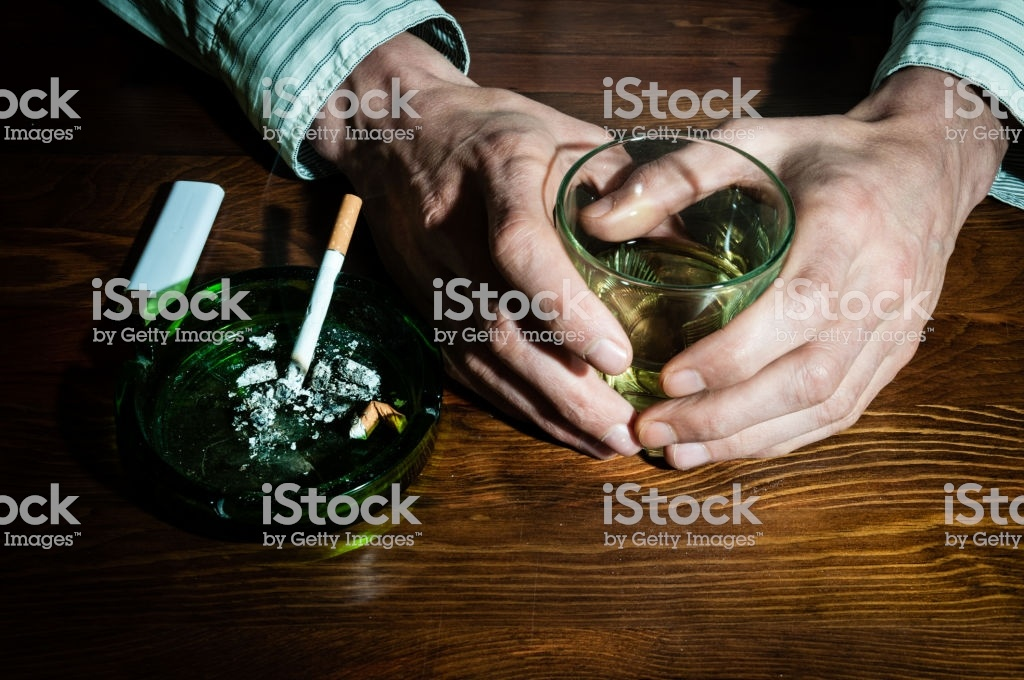sigaretta: (282, 182, 370, 408)
